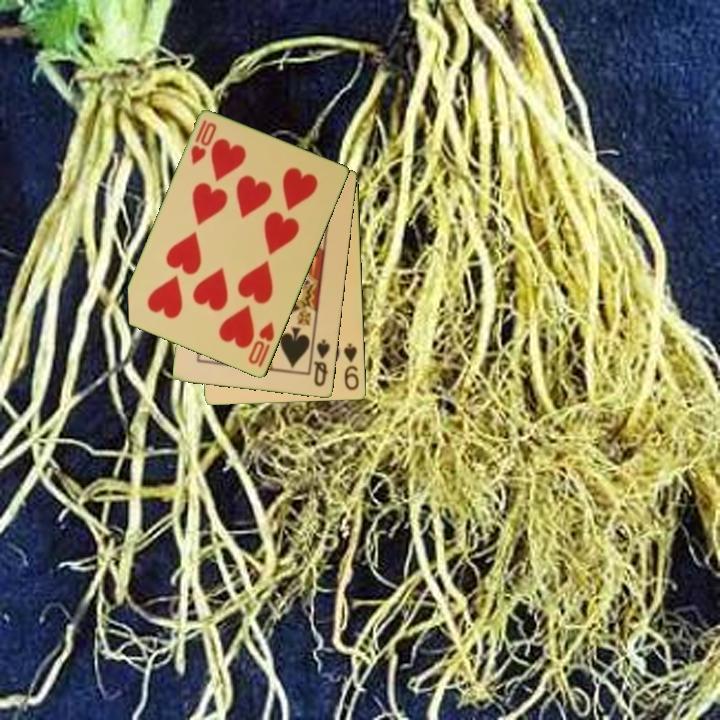10h: (245, 318, 278, 371), (187, 116, 220, 167)
9s: (340, 340, 362, 393)
Qs: (311, 336, 333, 389)
